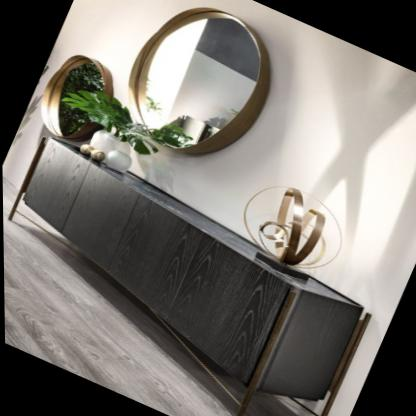Sideboard: (7, 130, 366, 416)
